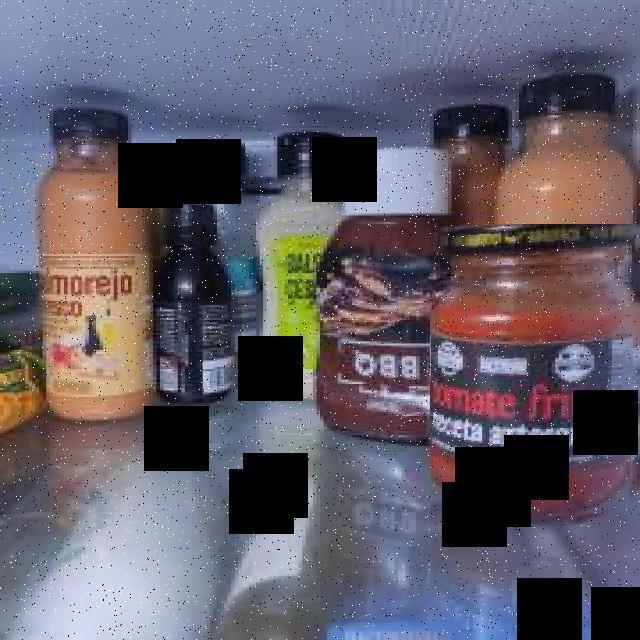tomato_sauce: (430, 224, 636, 523)
